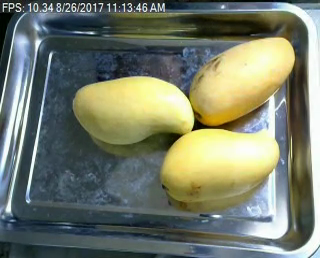Mango: (187, 34, 298, 126), (157, 123, 280, 205), (70, 74, 194, 145)
